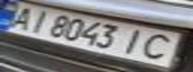0: (60, 16, 84, 43)
3: (96, 21, 124, 52)
4: (78, 19, 103, 47)
8: (42, 12, 72, 39)
A: (0, 3, 39, 30)
C: (136, 30, 187, 62)
I: (118, 26, 151, 56), (21, 8, 54, 35)
